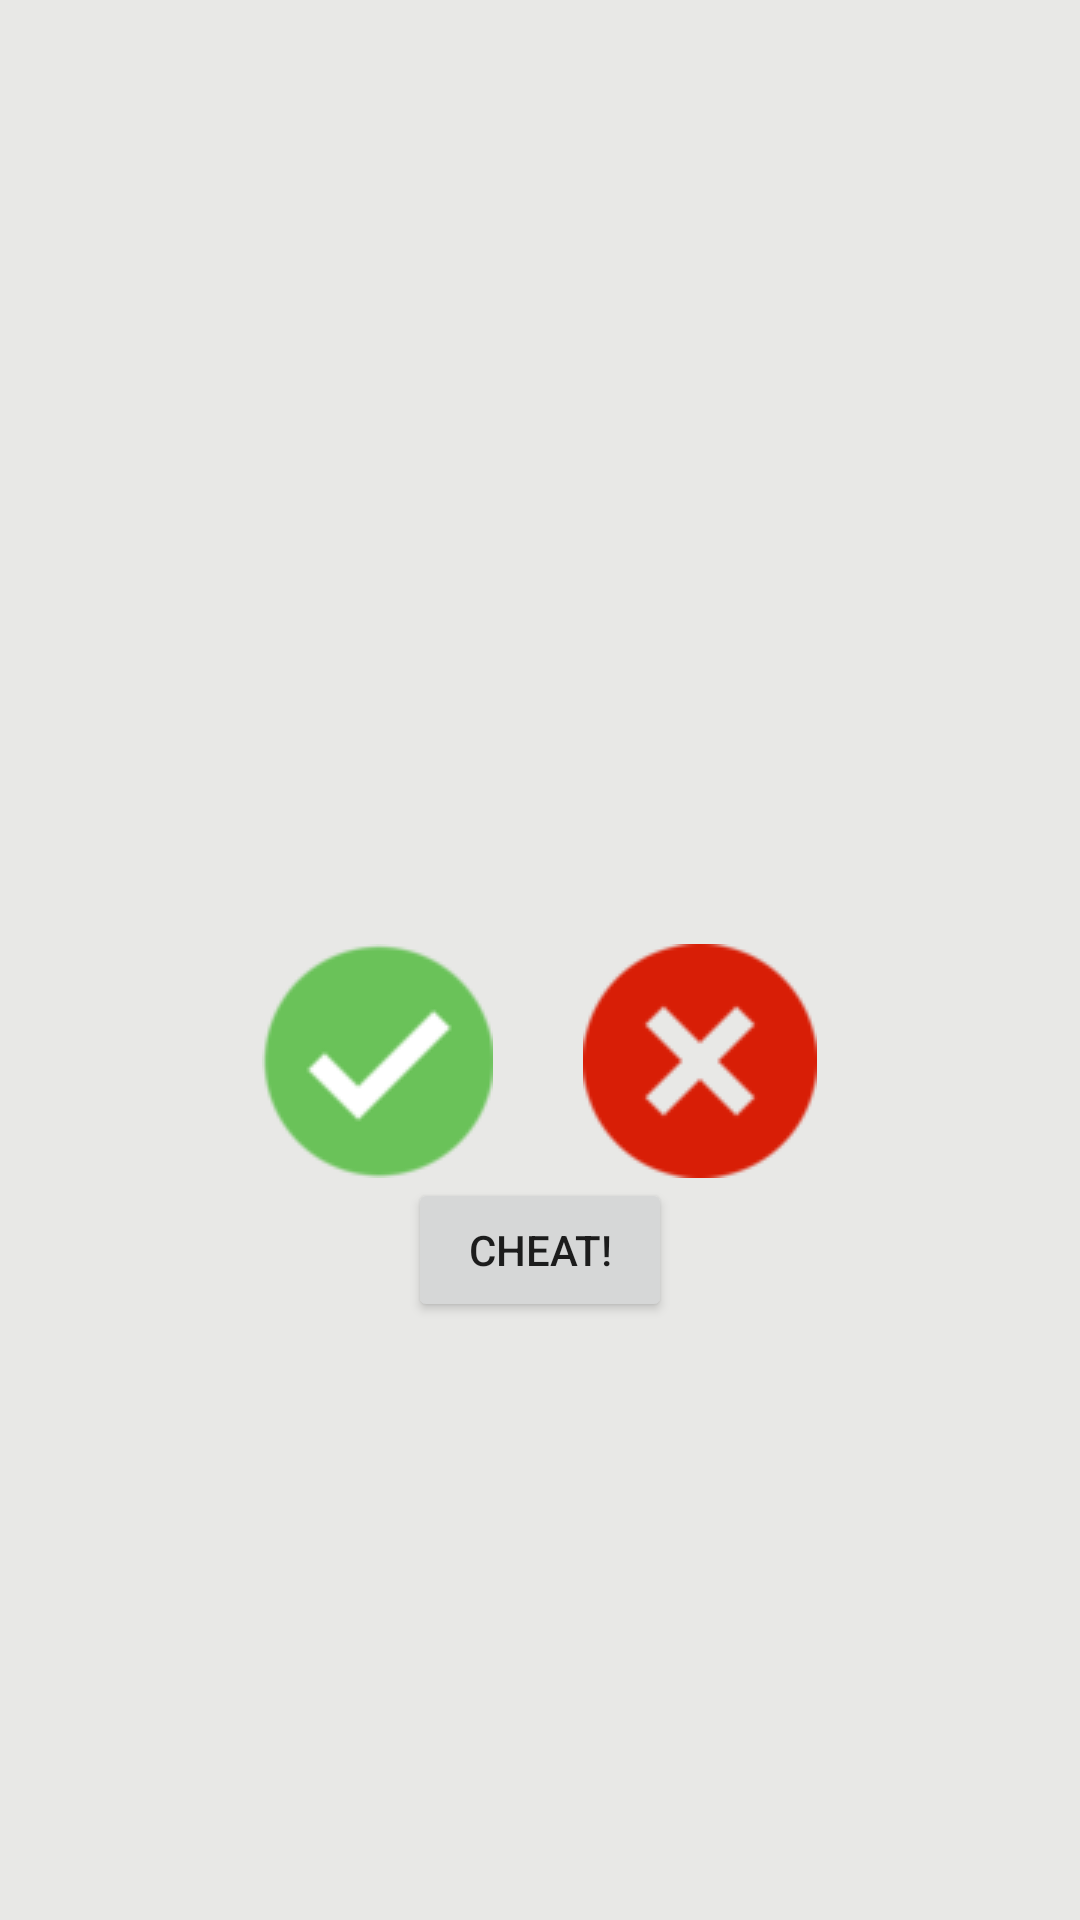

Icons on this 1080x1920 Android screen, each with its box as (x1, y1, x2, y2):
false: (583, 944, 817, 1178)
true: (264, 946, 493, 1178)
